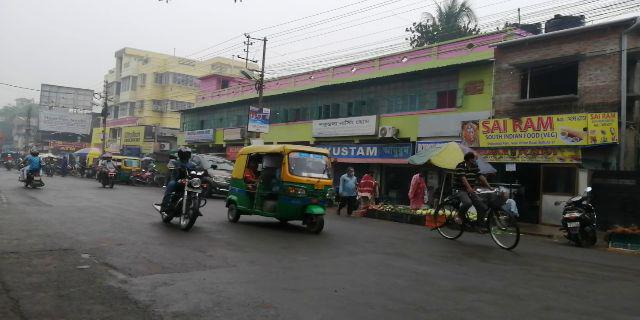Autorickshaw: (230, 145, 334, 241)
Cycle: (431, 153, 528, 244)
Motorbike: (160, 145, 209, 239)
